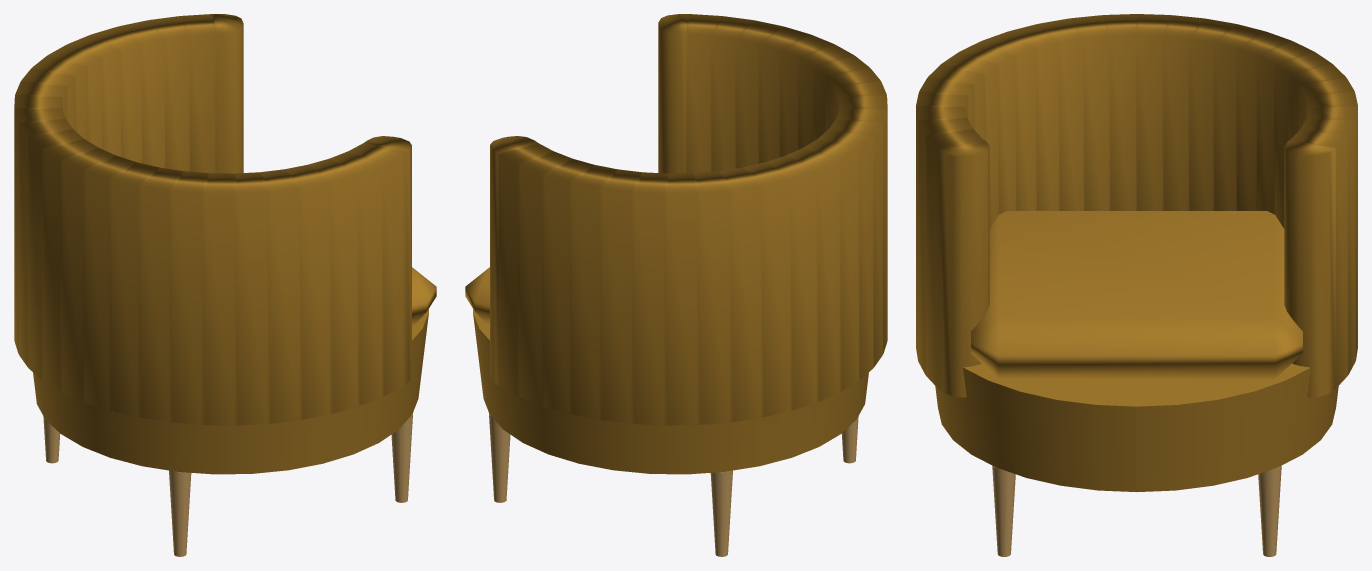
Rendered from armchair_deco.glb.
3 views of the same model, side by side, from view 1: azimuth 30°, elevation 25°; view 2: azimuth 150°, elevation 25°; view 3: azimuth 270°, elevation 25° (orthographic). The views are drawn at different scales.
Parts seen in each view (by area): view 1: Mesh_Shell, Mesh_Base, Mesh_LegBR, Mesh_LegFR, Mesh_Cushion, Mesh_LegBL; view 2: Mesh_Shell, Mesh_Base, Mesh_LegBL, Mesh_LegFL, Mesh_Cushion, Mesh_LegBR; view 3: Mesh_Shell, Mesh_Cushion, Mesh_Base, Mesh_LegFR, Mesh_LegFL.
Part boxes in pixels (box(x1,y1,x2,y2)): Mesh_Shell: box(14, 14, 411, 425); Mesh_Base: box(33, 309, 428, 474); Mesh_LegBR: box(169, 470, 191, 556); Mesh_LegFR: box(391, 413, 412, 502); Mesh_Cushion: box(412, 267, 436, 326); Mesh_LegBL: box(43, 416, 60, 463); Mesh_Shell: box(490, 14, 887, 425); Mesh_Base: box(473, 309, 868, 474); Mesh_LegBL: box(710, 470, 732, 556); Mesh_LegFL: box(489, 413, 510, 502); Mesh_Cushion: box(465, 267, 489, 326); Mesh_LegBR: box(841, 416, 858, 463); Mesh_Shell: box(916, 14, 1357, 397); Mesh_Cushion: box(971, 211, 1302, 378); Mesh_Base: box(935, 363, 1338, 491); Mesh_LegFR: box(992, 465, 1015, 556); Mesh_LegFL: box(1258, 465, 1281, 556).
Size of the model in its own units: 0.7797 by 0.78 by 0.7994.
